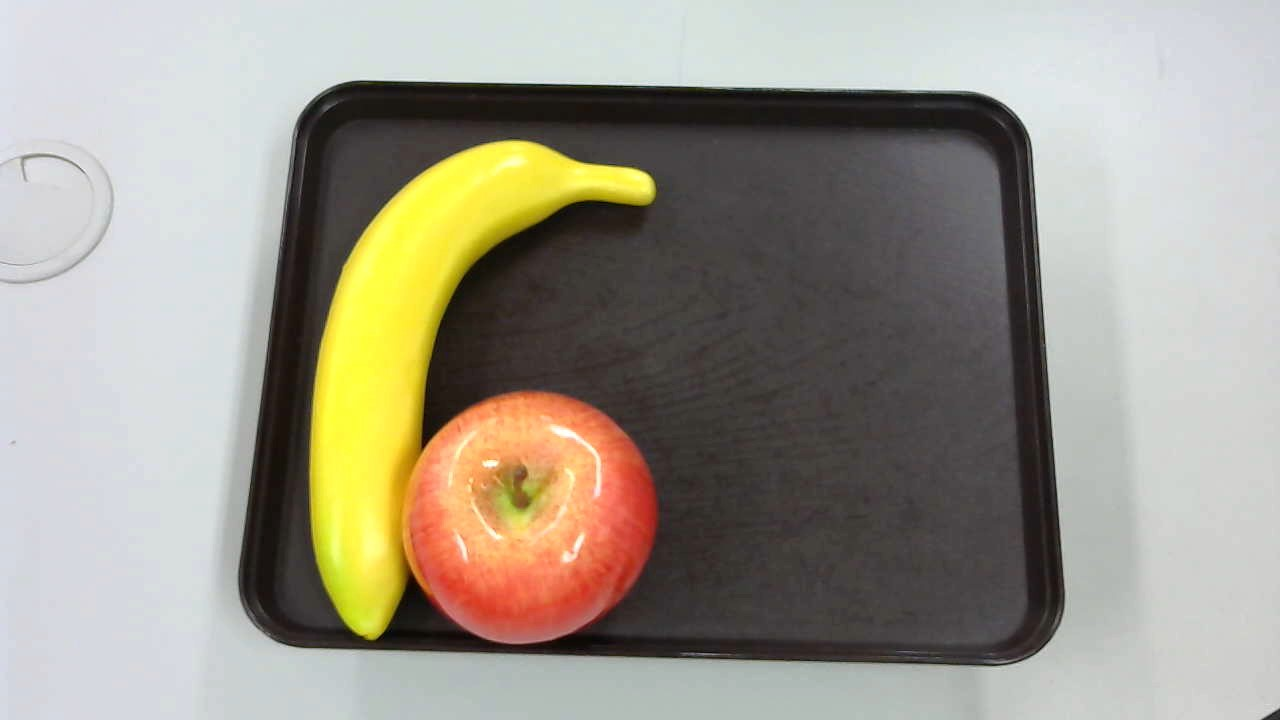banana: (310, 135, 649, 639)
red apple: (400, 388, 661, 661)
